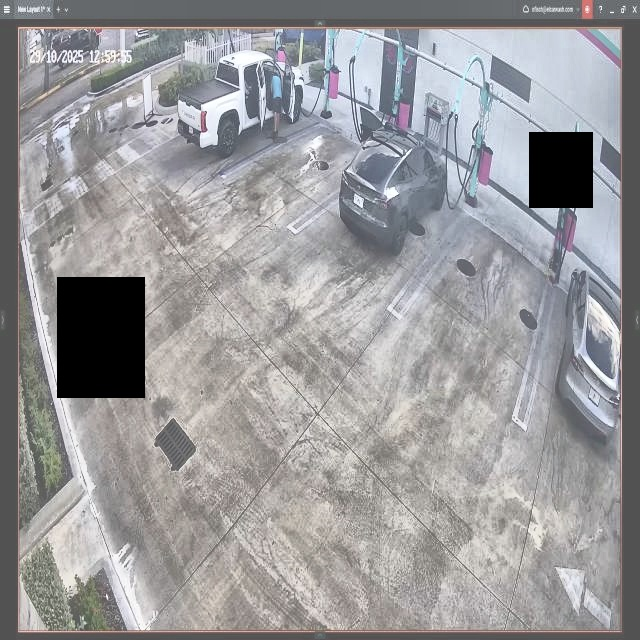Car: (340, 108, 447, 253), (178, 49, 303, 153)
